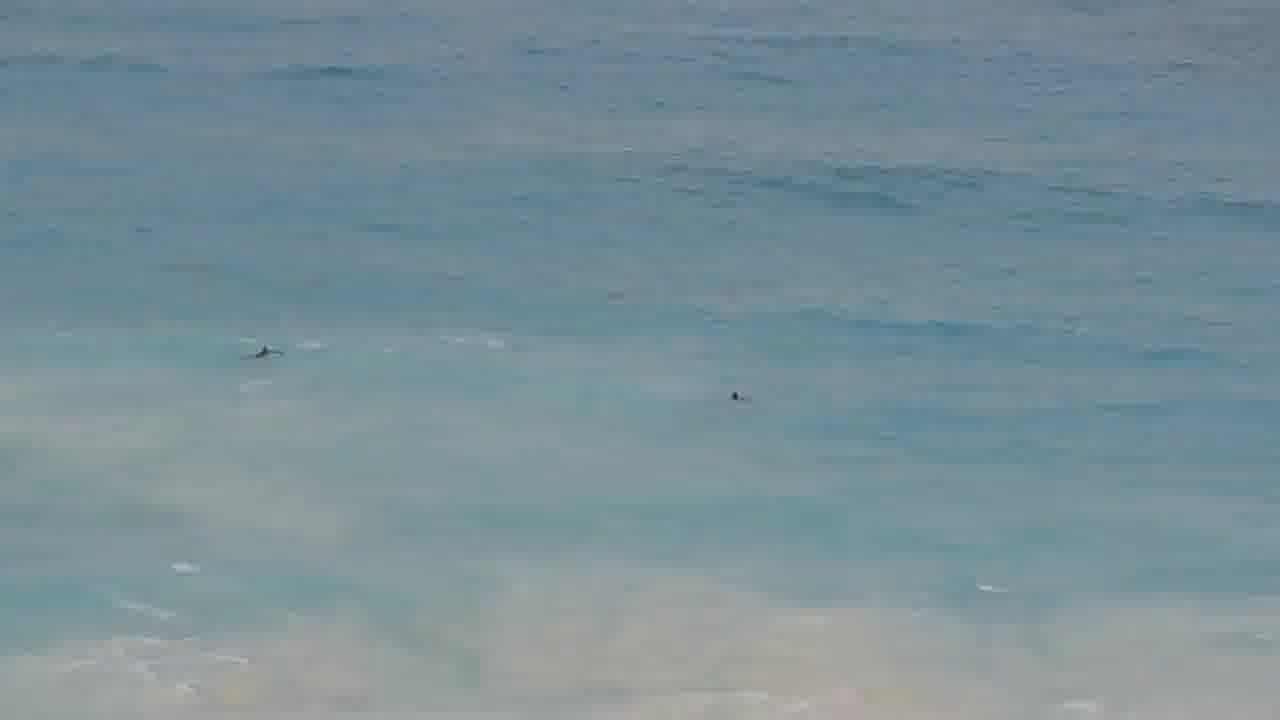swimmer: (241, 333, 288, 368), (709, 379, 750, 415)
